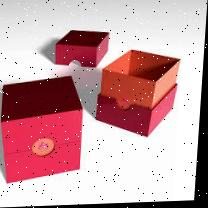cube: (0, 76, 87, 184)
